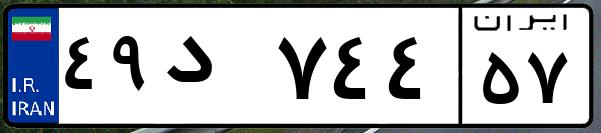4: (385, 28, 445, 110), (330, 28, 385, 110), (57, 26, 110, 100)
5: (475, 38, 525, 113)
7: (270, 28, 330, 110), (525, 38, 570, 115)
9: (110, 28, 158, 98)
د: (158, 20, 270, 120)
